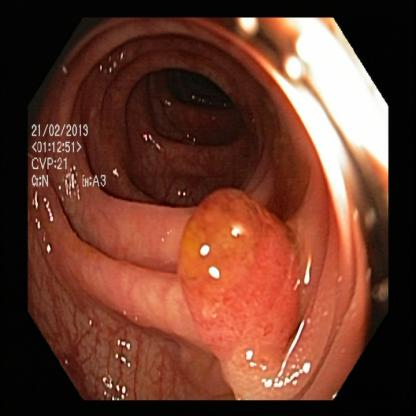Labels: (27, 118, 122, 204)
Polyps: (179, 193, 284, 369)
